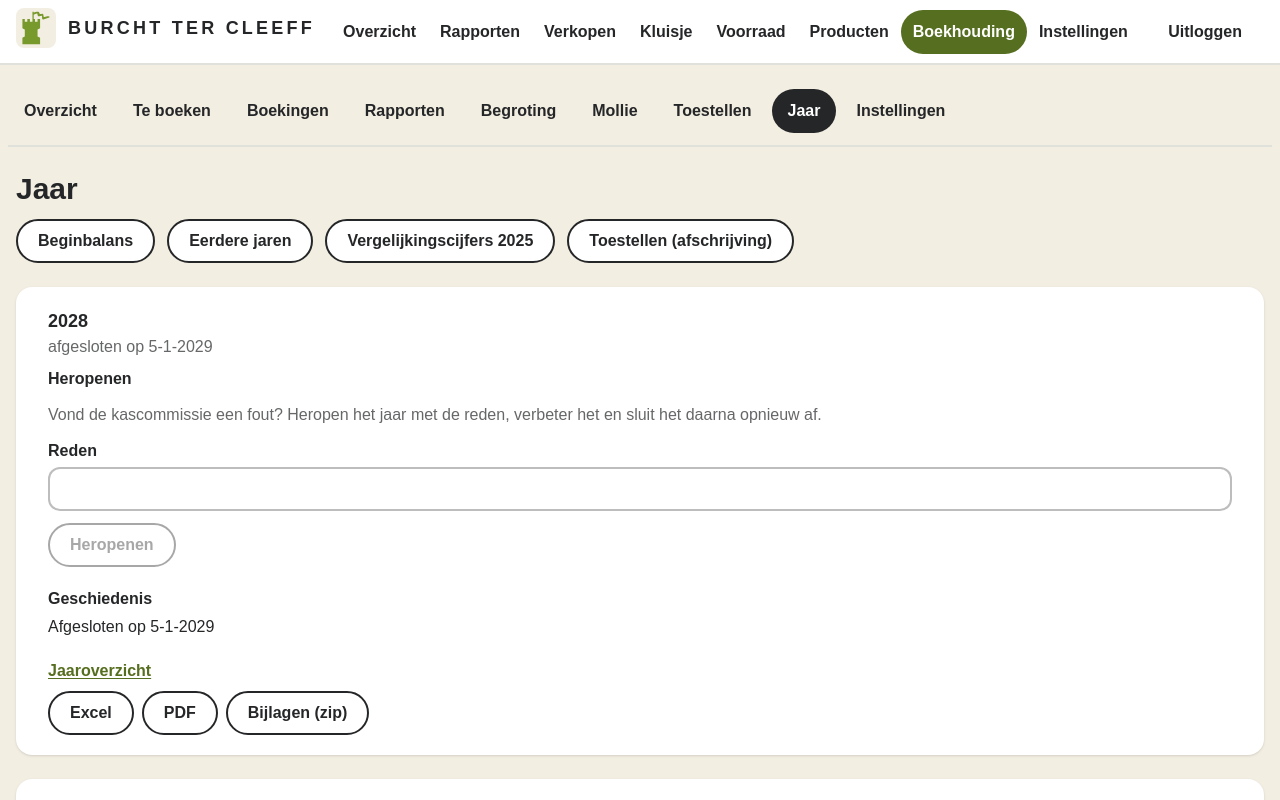
Test: reopens the newest closed year with a reason, and only that one
This screenshot has width=1280, height=800.
Expected: the button "Heropenen" is disabled, x1=48 y1=523 x2=176 y2=567
Type "ab" into the field labelled "Reden" at (640, 489), box x1=48 y1=467 x2=1232 y2=511
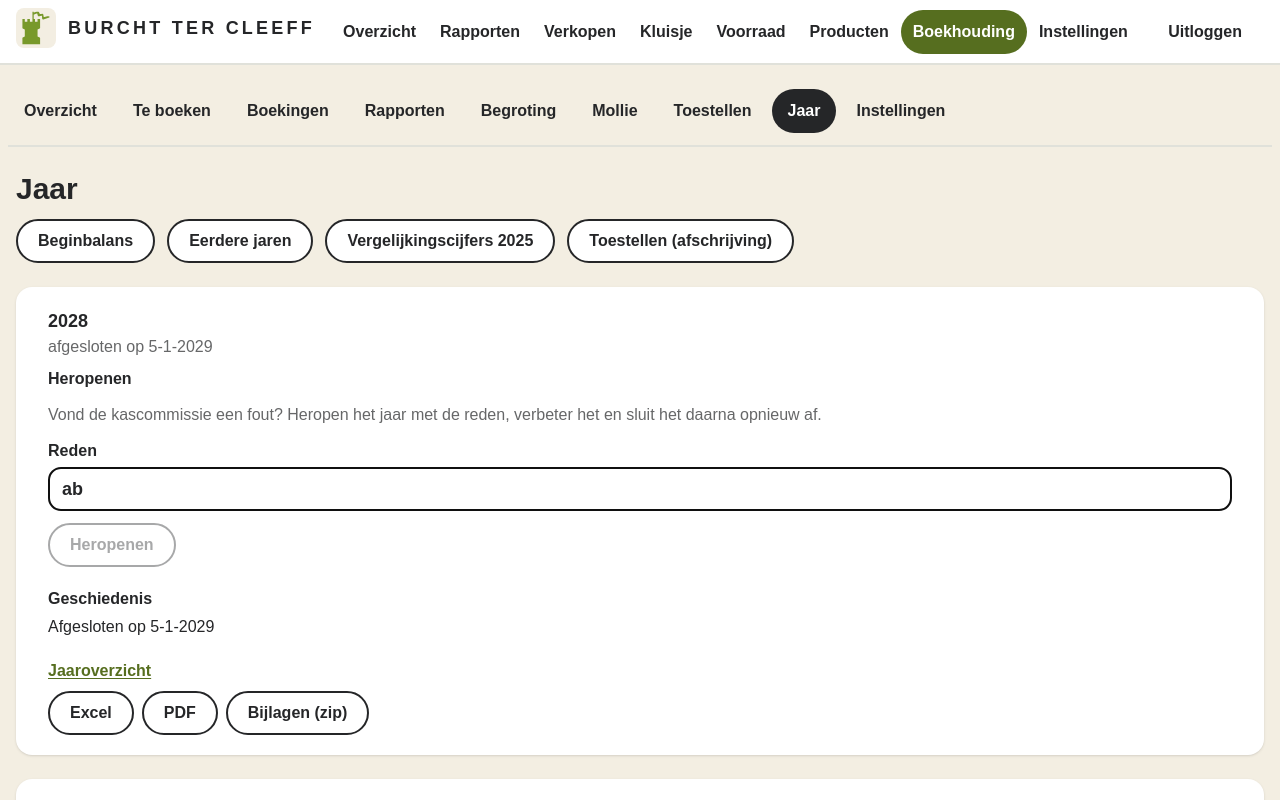
Expected: the button "Heropenen" is disabled, x1=48 y1=523 x2=176 y2=567
Type "c fout in de kas" into the field labelled "Reden" at (640, 489), box x1=48 y1=467 x2=1232 y2=511
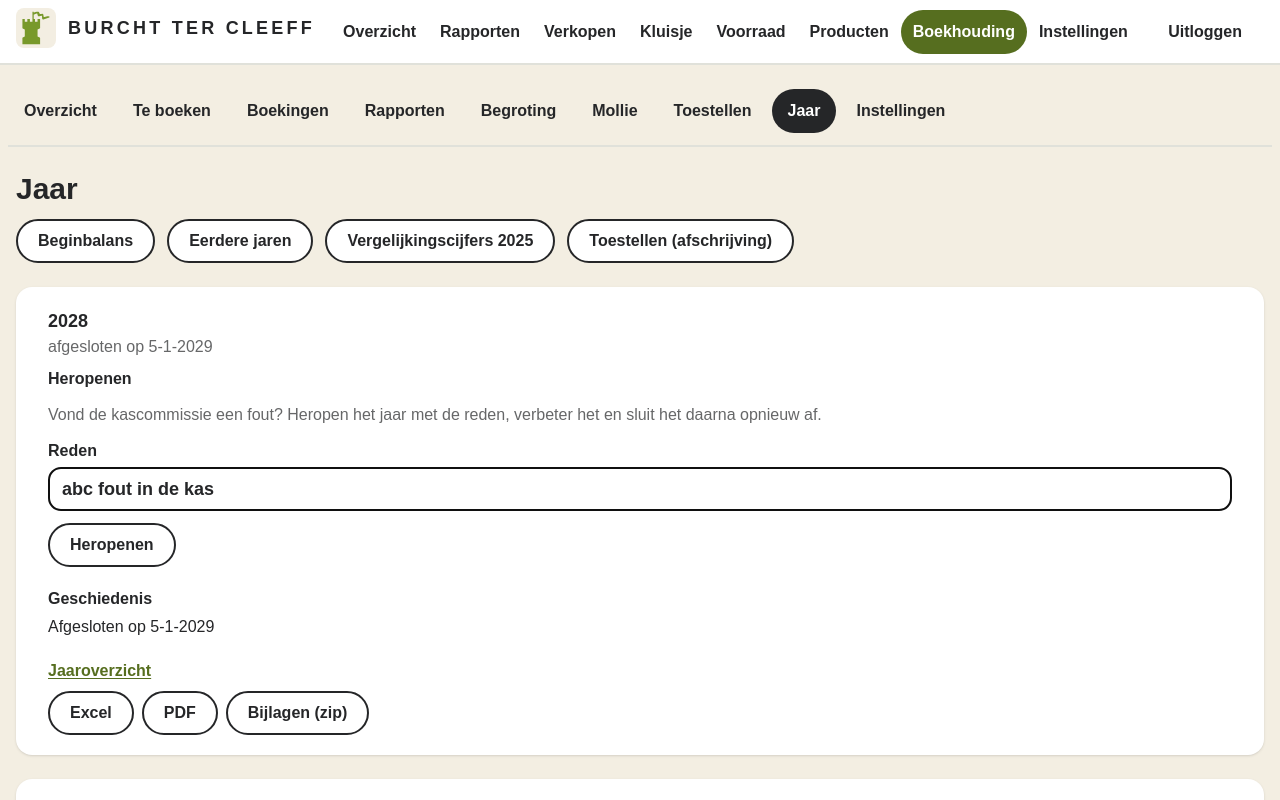
Expected: the button "Heropenen" is enabled
Click the button "Heropenen" at (112, 545), box x1=48 y1=523 x2=176 y2=567
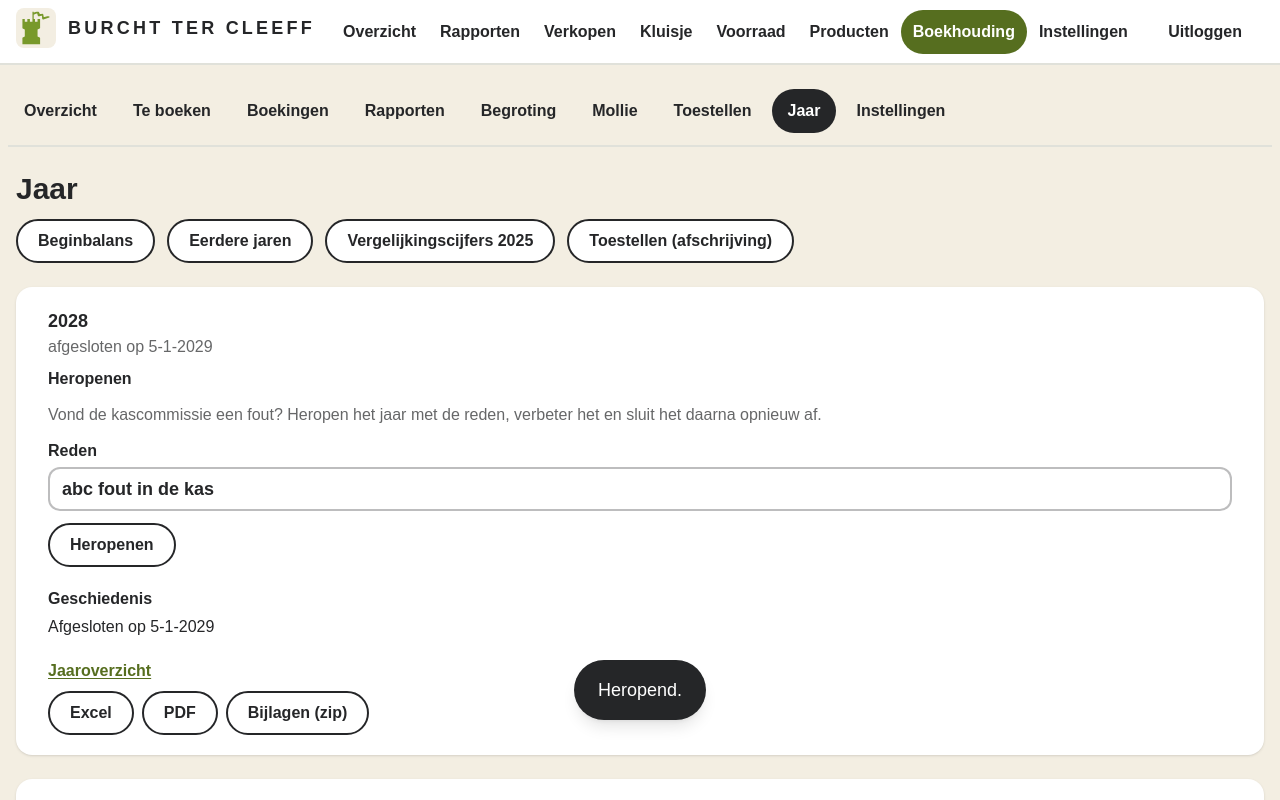
Expected: the text "Heropend." is shown, x1=598 y1=680 x2=682 y2=700
